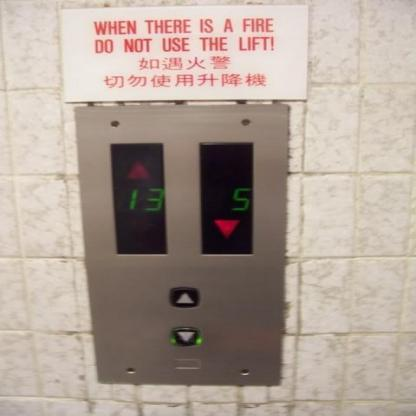down: (168, 325, 204, 347)
led: (197, 138, 255, 258), (110, 143, 167, 255)
up: (166, 285, 202, 309)
